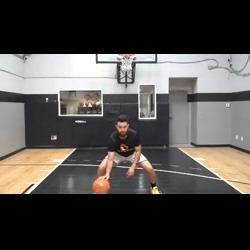BasketBall: (90, 174, 111, 194)
